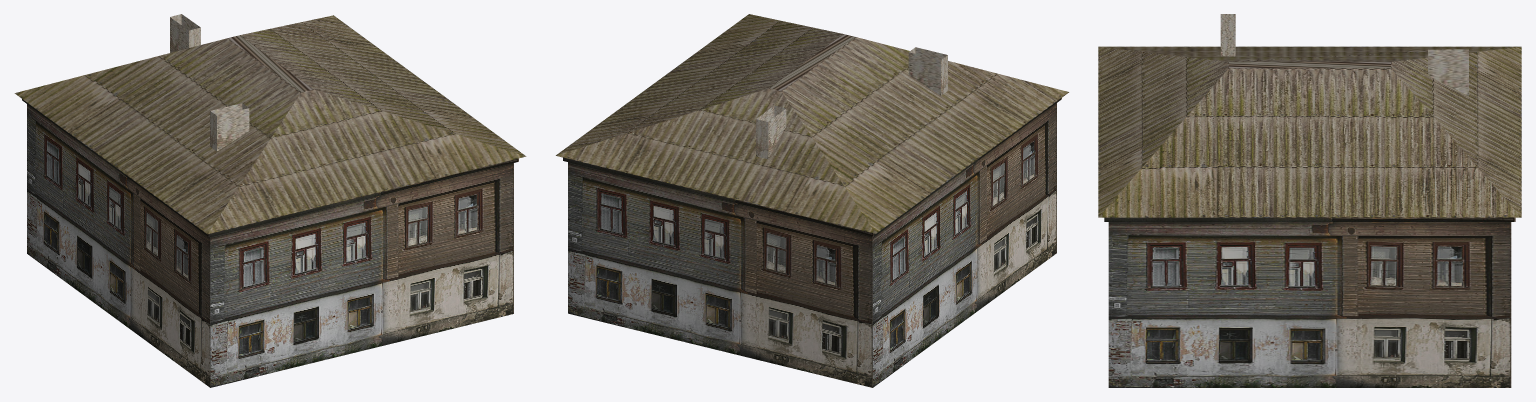
Rendered from sibir_dom_2et3.FBX.
3 views of the same model, side by side, from view 1: azimuth 30°, elevation 25°; view 2: azimuth 150°, elevation 25°; view 3: azimuth 270°, elevation 25° (orthographic). The views are drawn at different scales.
Visible parts, largest first — view 1: sibir_dom_2et3; view 2: sibir_dom_2et3; view 3: sibir_dom_2et3.
Part boxes in pixels (x1=…): sibir_dom_2et3: x1=14, y1=14, x2=526, y2=387; sibir_dom_2et3: x1=556, y1=14, x2=1068, y2=387; sibir_dom_2et3: x1=1098, y1=14, x2=1521, y2=387.
Bounding box in the file's own units: 14.35 × 15.02 × 9.48.
